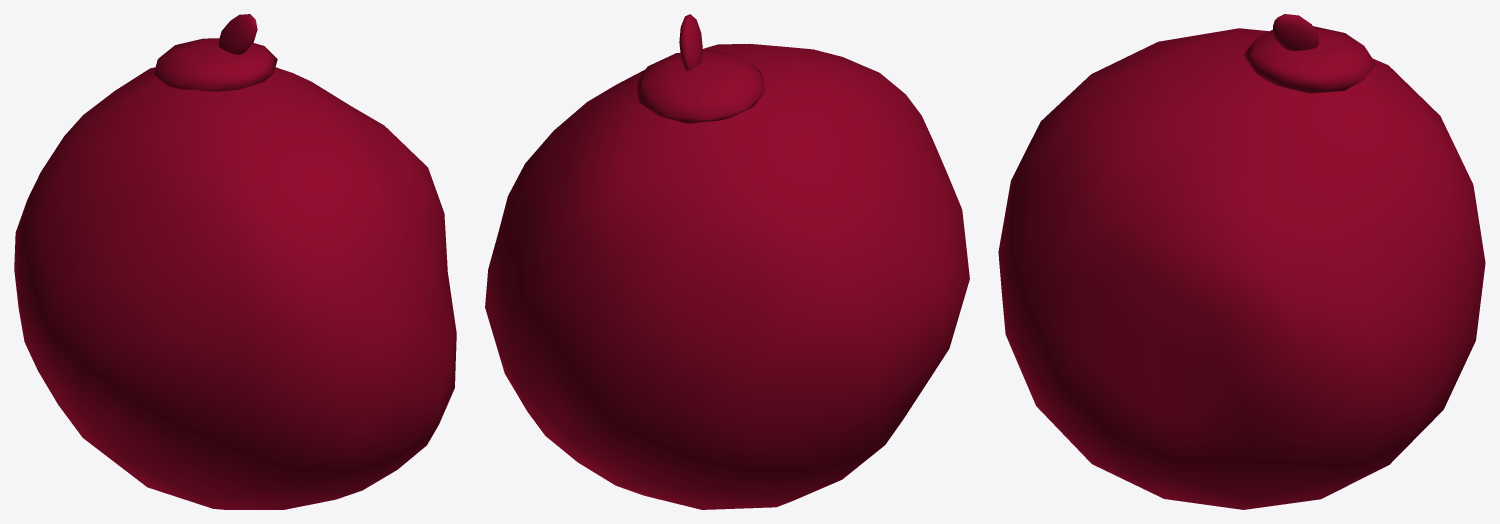
The picture shows the model from 3 angles, left to right: view 1: azimuth 30°, elevation 25°; view 2: azimuth 150°, elevation 25°; view 3: azimuth 270°, elevation 25°; orthographic projection. The views are drawn at different scales.
Visible parts, largest first — view 1: Icosphere.004; view 2: Icosphere.004; view 3: Icosphere.004.
Boxes of the visible parts, left/top/right/bottom form: Icosphere.004: left=14, top=14, right=456, bottom=509; Icosphere.004: left=485, top=14, right=969, bottom=509; Icosphere.004: left=998, top=14, right=1485, bottom=509.
Size of the model in its own units: 174 by 193 by 178.
